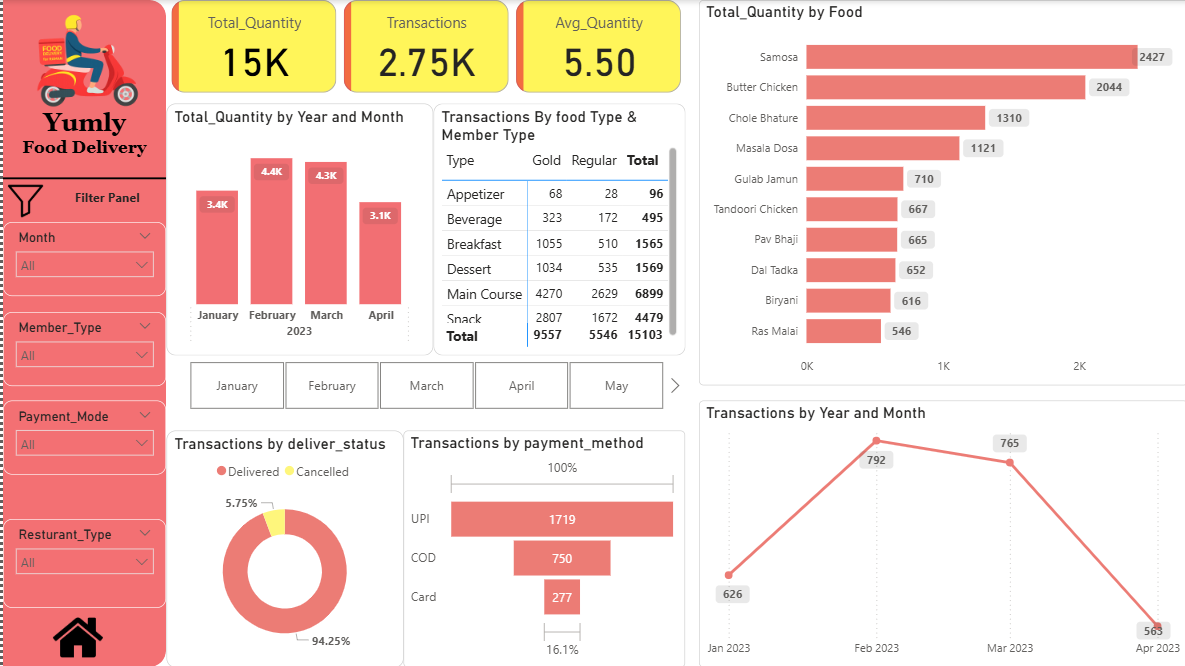

This screenshot's page, from the dashboard's own definition file:
{"tool":"powerbi","page":{"name":"Page 1","canvas":[1280,720],"ordinal":0},"visuals":[{"type":"shape","box":[0,0,176,720],"z":0},{"type":"image","box":[0,0,176,128],"z":1000},{"type":"textbox","box":[0,112,176,64],"z":2000},{"type":"shape","box":[0,176,176,32],"z":3000},{"type":"cardVisual","fields":{"Data":["Sales Data.Total_Quantity","Sales Data.Transactions","Sales Data.Avg_Quantity"]},"box":[176,0,560,112],"z":4000},{"type":"clusteredColumnChart","fields":{"Y":["Sales Data.Total_Quantity"],"Category":["Sales Data.orderDate.Variation.Date Hierarchy.Year","Sales Data.orderDate.Variation.Date Hierarchy.Month"]},"box":[176,112,288,272],"z":5000},{"type":"pivotTable","title":"Transactions By food Type & Member Type","fields":{"Columns":["Customer Details.member_Type"],"Rows":["Food_Details.Type"],"Values":["Sales Data.Total_Quantity"]},"box":[464,112,272,272],"z":6000},{"type":"donutChart","fields":{"Category":["Sales Data.deliver_status"],"Y":["Sales Data.Transactions"]},"box":[176,464,256,256],"z":7000},{"type":"funnel","fields":{"Category":["Sales Data.payment_method"],"Y":["Sales Data.Transactions"]},"box":[432,464,304,256],"z":8000},{"type":"clusteredBarChart","fields":{"Y":["Sales Data.Total_Quantity"],"Category":["Food_Details.Food"]},"box":[752,0,528,416],"z":8001},{"type":"lineChart","fields":{"Y":["Sales Data.Transactions"],"Category":["Sales Data.orderDate.Variation.Date Hierarchy.Year","Sales Data.orderDate.Variation.Date Hierarchy.Month"]},"box":[752,432,528,288],"z":8002},{"type":"slicer","fields":{"Values":["Sales Data.orderDate.Variation.Date Hierarchy.Month"]},"box":[0,240,176,80],"z":8003},{"type":"slicer","fields":{"Values":["Customer Details.member_Type"]},"box":[0,336,176,80],"z":8004},{"type":"slicer","fields":{"Values":["Sales Data.payment_method"]},"box":[0,432,176,80],"z":8005},{"type":"slicer","fields":{"Values":["Resturant_Details.Resturant_type"]},"box":[0,560,176,96],"z":8006},{"type":"slicer","fields":{"Values":["Sales Data.orderDate.Variation.Date Hierarchy.Month"]},"box":[176,384,560,64],"z":8007},{"type":"image","box":[0,192,48,48],"z":8008},{"type":"textbox","box":[48,192,128,48],"z":8009},{"type":"image","box":[48,656,64,64],"z":8010}]}

Visuals, with their boxes in screenshot pixels (x1, y1, x2, y2), scaled from the page's 1280x720 canvas onto the 1185x666 screenshot:
shape: 0,0,163,665
image: 0,0,163,118
textbox: 0,104,163,163
shape: 0,163,163,192
cardVisual - Sales Data.Total_Quantity x Sales Data.Transactions: 163,0,681,104
clusteredColumnChart - Sales Data.Total_Quantity x Sales Data.orderDate.Variation.Date Hierarchy.Year: 163,104,430,355
"Transactions By food Type & Member Type" pivotTable: 430,104,681,355
donutChart - Sales Data.deliver_status x Sales Data.Transactions: 163,429,400,665
funnel - Sales Data.payment_method x Sales Data.Transactions: 400,429,681,665
clusteredBarChart - Sales Data.Total_Quantity x Food_Details.Food: 696,0,1184,385
lineChart - Sales Data.Transactions x Sales Data.orderDate.Variation.Date Hierarchy.Year: 696,400,1184,665
slicer - Sales Data.orderDate.Variation.Date Hierarchy.Month: 0,222,163,296
slicer - Customer Details.member_Type: 0,311,163,385
slicer - Sales Data.payment_method: 0,400,163,474
slicer - Resturant_Details.Resturant_type: 0,518,163,607
slicer - Sales Data.orderDate.Variation.Date Hierarchy.Month: 163,355,681,414
image: 0,178,44,222
textbox: 44,178,163,222
image: 44,607,104,665
